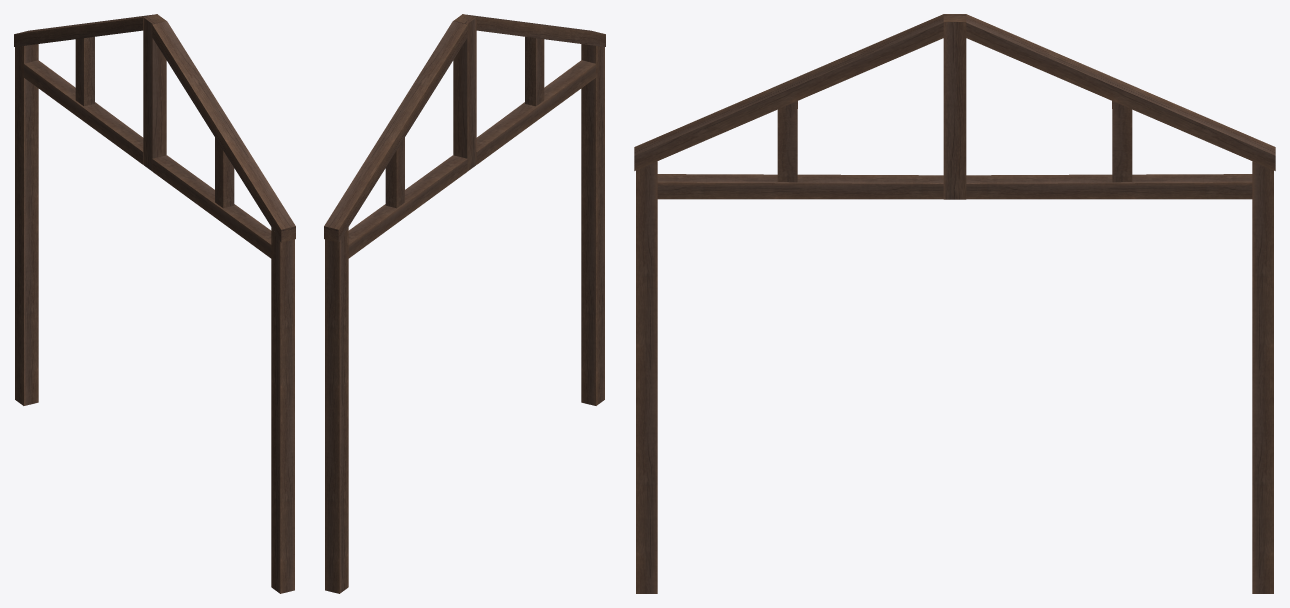
The model's file is yane_frame_2.5t_1f_3.fbx.
3 renders of one model, left to right at view 1: azimuth 30°, elevation 25°; view 2: azimuth 150°, elevation 25°; view 3: azimuth 270°, elevation 25°, orthographic. The views are drawn at different scales.
Visible parts, largest first — view 1: yane_frame_2.5t_1f_5; view 2: yane_frame_2.5t_1f_5; view 3: yane_frame_2.5t_1f_5.
Part boxes in pixels (x1,y1,x2,y2): yane_frame_2.5t_1f_5: [14, 14, 295, 593]; yane_frame_2.5t_1f_5: [324, 14, 605, 593]; yane_frame_2.5t_1f_5: [634, 14, 1275, 593].
Bounding box in the file's own units: 18.31 × 566 × 576.
